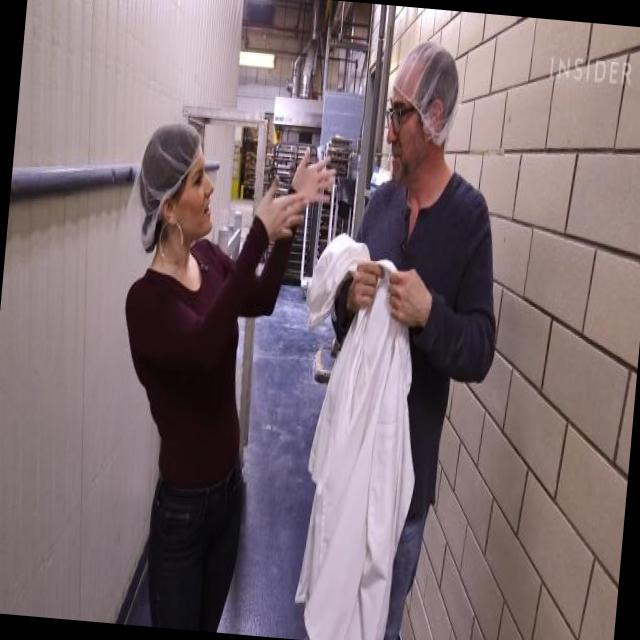hairnet: (392, 38, 463, 136), (132, 120, 202, 195)
